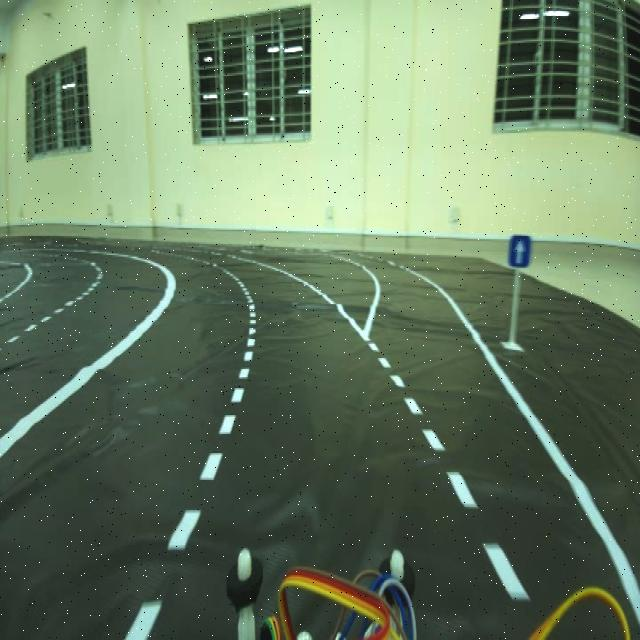onewayroad: (504, 220, 535, 282)
